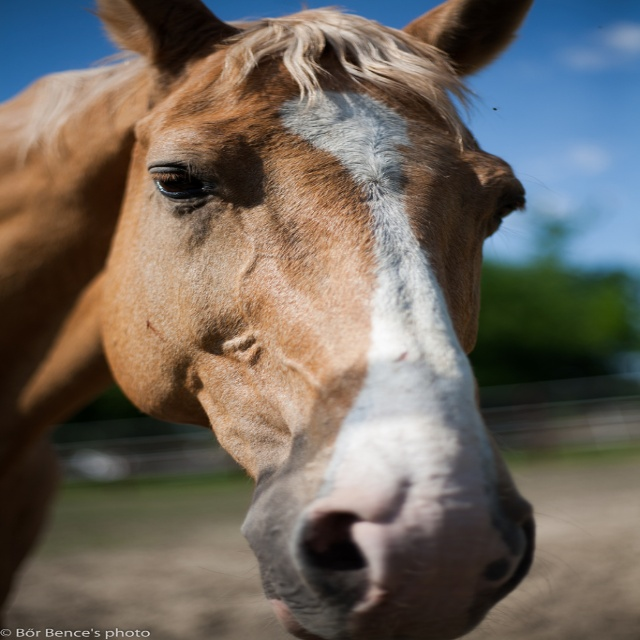Horse: (0, 0, 538, 640)
